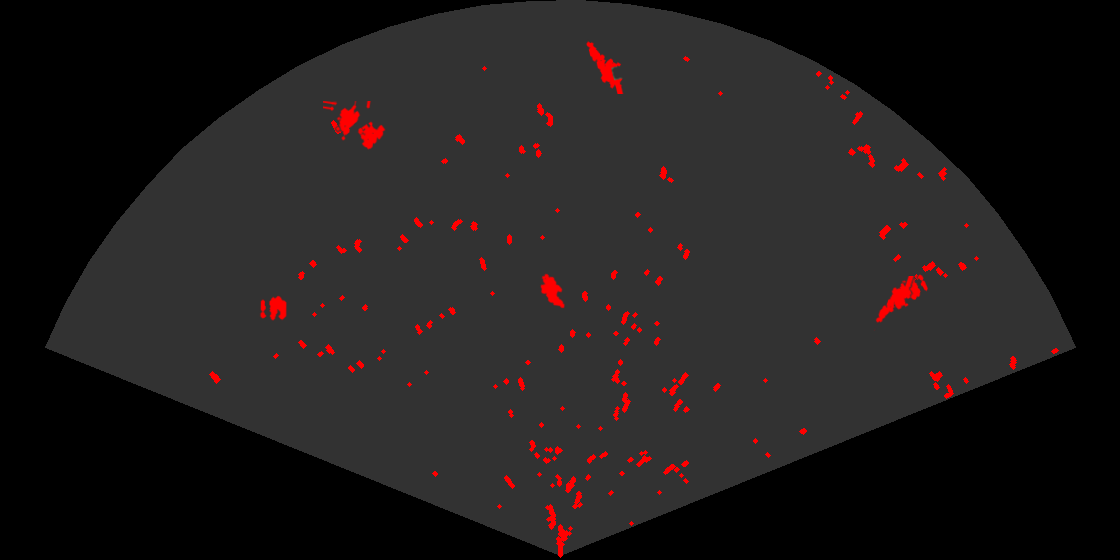AUV: (539, 272, 566, 310)
ball: (899, 273, 929, 302), (258, 294, 288, 322)
cage: (323, 101, 387, 151)
frogman: (873, 276, 916, 331), (585, 39, 625, 94)
